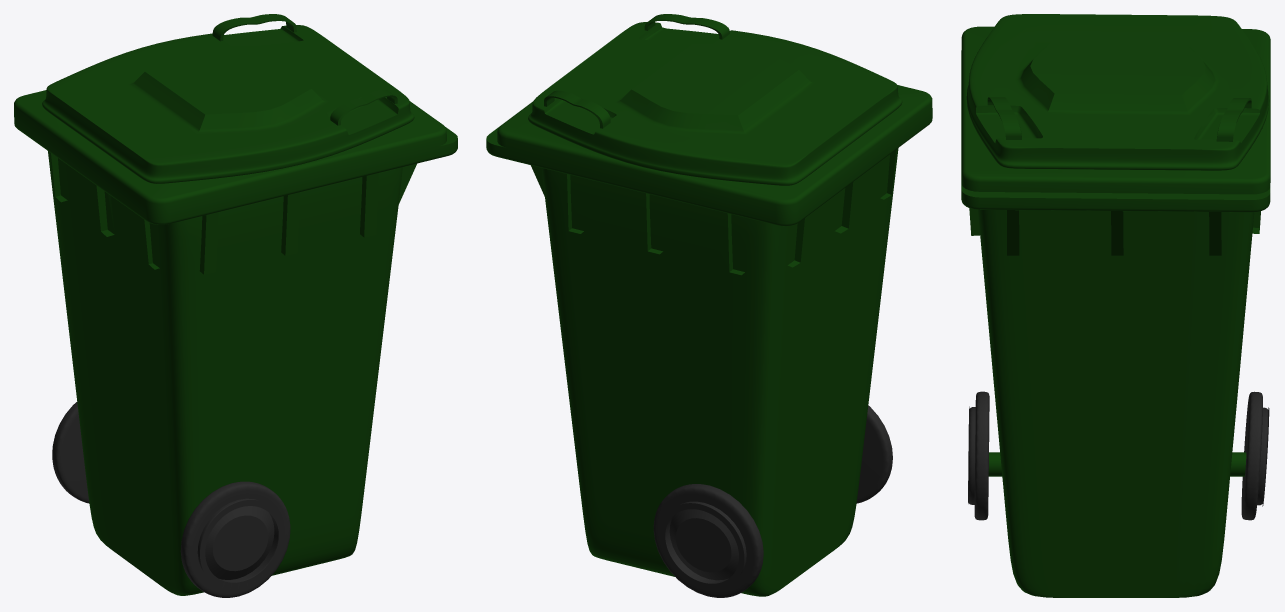
File: trashbin.fbx
The picture shows the model from 3 angles, left to right: view 1: azimuth 30°, elevation 25°; view 2: azimuth 150°, elevation 25°; view 3: azimuth 270°, elevation 25°; orthographic projection. The views are drawn at different scales.
Parts seen in each view (by area): view 1: body, door, upper body, wheel.001, wheel; view 2: body, door, upper body, wheel, wheel.001; view 3: body, door, upper body, wheel, wheel.001.
Boxes of the visible parts, x1,y1,x2,y2 form: body: (48, 151, 416, 595); door: (42, 14, 414, 183); upper body: (14, 90, 457, 224); wheel.001: (180, 481, 290, 597); wheel: (52, 402, 89, 503); body: (531, 148, 898, 596); door: (528, 14, 902, 185); upper body: (486, 27, 932, 226); wheel: (653, 484, 763, 597); wheel.001: (856, 405, 892, 503); body: (969, 208, 1260, 597); door: (966, 14, 1269, 170); upper body: (961, 26, 1270, 212); wheel: (1241, 391, 1269, 520); wheel.001: (968, 391, 989, 520).
Size of the model in its own units: 1067 by 1533 by 879.
